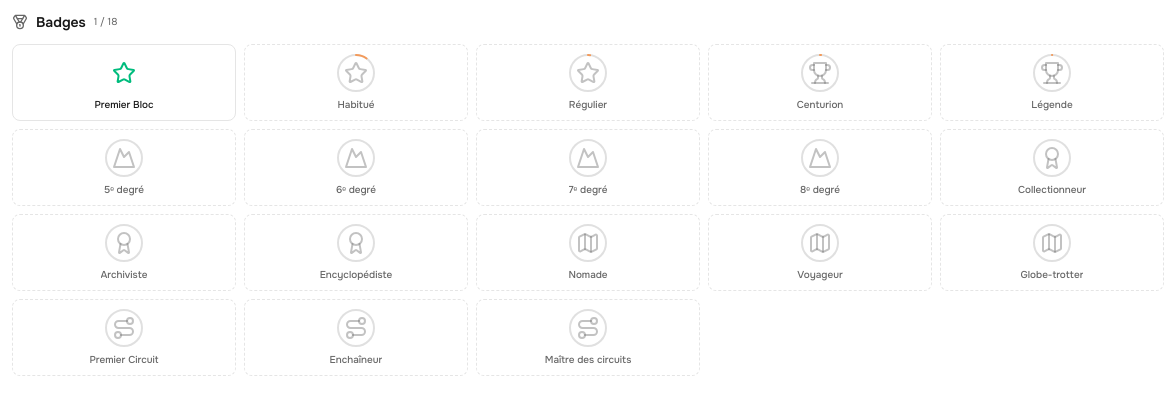
Test: BadgesSection › opens and closes a popover on click
Click the button "Premier Bloc": point(124, 82) x1=12 y1=44 x2=236 y2=121
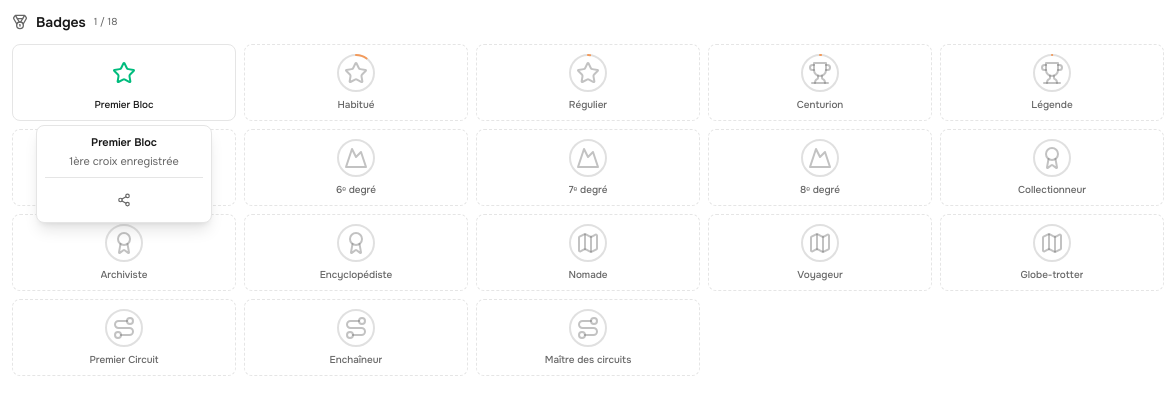
Check: the tooltip "Premier Bloc 1ère croix enregistrée" is shown, box x1=36 y1=125 x2=212 y2=223
Click the button "Premier Bloc": point(124, 82) x1=12 y1=44 x2=236 y2=121
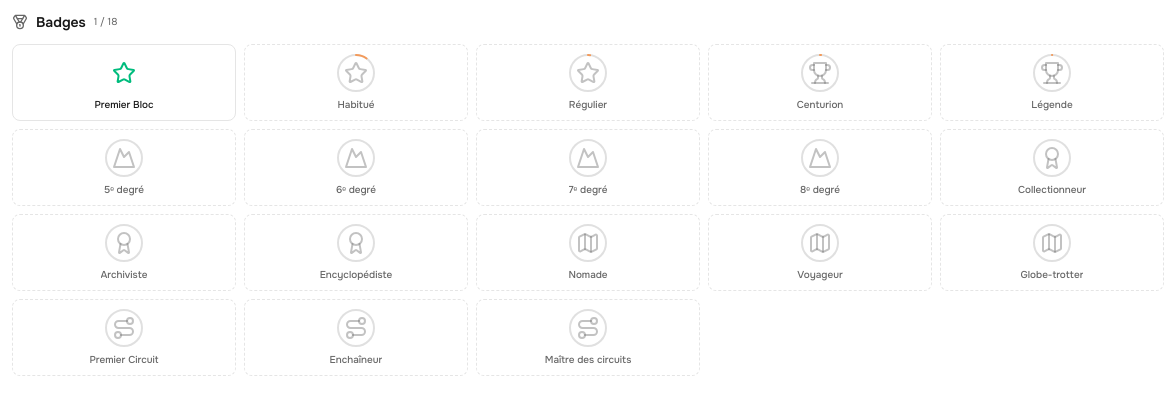
Check: the tooltip "Premier Bloc 1ère croix enregistrée" is gone
